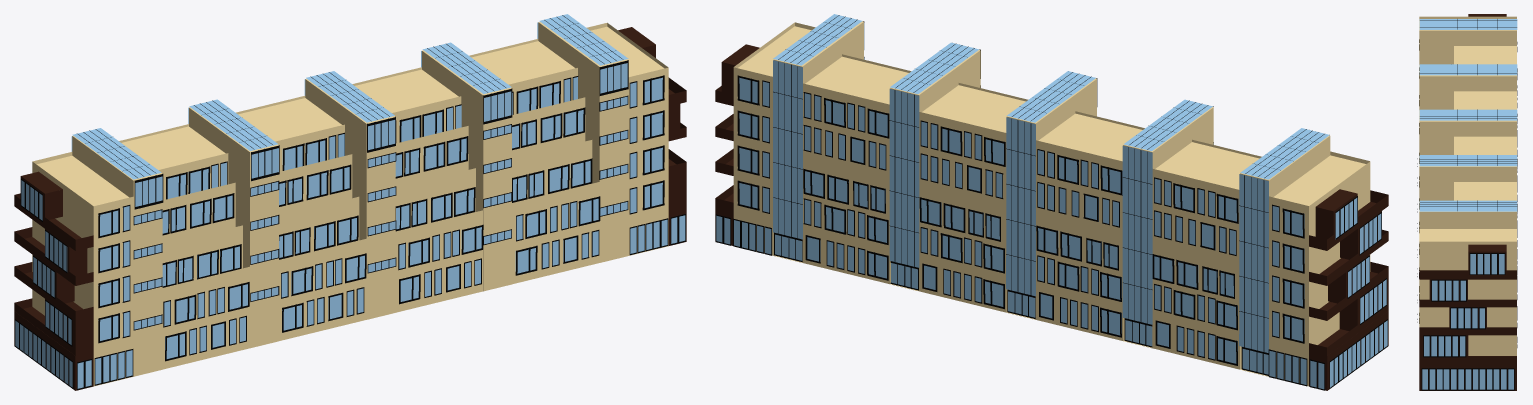
File: second_build.glb
The picture shows the model from 3 angles, left to right: view 1: azimuth 30°, elevation 25°; view 2: azimuth 150°, elevation 25°; view 3: azimuth 270°, elevation 25°; orthographic projection. The views are drawn at different scales.
Parts seen in each view (by area): view 1: Плоскость.001, Плоскость.012, Плоскость.024, Плоскость.017, Плоскость.007, Плоскость.002, Плоскость.023, Плоскость.021, Плоскость.006, Плоскость.011, Плоскость.016, Плоскость.003 (+43 smaller); view 2: Плоскость.003, Плоскость.013, Плоскость.018, Плоскость.008, Плоскость.001, Door 2.004, Door 2.011, Door 2.002, Door 2.003, Door 2.005, Плоскость.023, Плоскость.028 (+35 smaller); view 3: Плоскость.023, Плоскость.012, Плоскость.007, Плоскость.002, Плоскость.017, Плоскость.024, Плоскость.038, Плоскость.003, Плоскость.008, Плоскость.013, Плоскость.018, Door 2.007 (+44 smaller).
Boxes of the visible parts, left/top/right/bottom form: Плоскость.001: left=32, top=152, right=133, bottom=386; Плоскость.012: left=305, top=78, right=395, bottom=319; Плоскость.024: left=538, top=22, right=628, bottom=262; Плоскость.017: left=422, top=50, right=511, bottom=291; Плоскость.007: left=189, top=107, right=278, bottom=348; Плоскость.002: left=72, top=135, right=162, bottom=376; Плоскость.023: left=586, top=22, right=668, bottom=255; Плоскость.021: left=512, top=182, right=599, bottom=284; Плоскость.006: left=162, top=266, right=249, bottom=369; Плоскость.011: left=279, top=238, right=366, bottom=340; Плоскость.016: left=395, top=210, right=482, bottom=312; Плоскость.003: left=119, top=124, right=228, bottom=199; Плоскость.003: left=1152, top=139, right=1261, bottom=369; Плоскость.013: left=919, top=83, right=1028, bottom=312; Плоскость.018: left=802, top=54, right=911, bottom=284; Плоскость.008: left=1035, top=111, right=1144, bottom=341; Плоскость.001: left=1269, top=151, right=1370, bottom=386; Door 2.004: left=1122, top=145, right=1152, bottom=324; Door 2.011: left=889, top=89, right=919, bottom=267; Door 2.002: left=773, top=60, right=802, bottom=239; Door 2.003: left=1006, top=117, right=1035, bottom=296; Door 2.005: left=1239, top=174, right=1268, bottom=352; Плоскость.023: left=733, top=22, right=815, bottom=255; Плоскость.028: left=1309, top=189, right=1388, bottom=250; Плоскость.023: left=1419, top=229, right=1516, bottom=355; Плоскость.012: left=1419, top=110, right=1516, bottom=155; Плоскость.007: left=1419, top=65, right=1516, bottom=109; Плоскость.002: left=1419, top=20, right=1516, bottom=64; Плоскость.017: left=1419, top=156, right=1516, bottom=200; Плоскость.024: left=1419, top=201, right=1516, bottom=228; Плоскость.038: left=1419, top=244, right=1516, bottom=279; Плоскость.003: left=1454, top=46, right=1516, bottom=64; Плоскость.008: left=1454, top=91, right=1516, bottom=109; Плоскость.013: left=1454, top=136, right=1516, bottom=154; Плоскость.018: left=1454, top=182, right=1516, bottom=200; Door 2.007: left=1419, top=64, right=1517, bottom=75.
Bounding box in the file's own units: 82.26 × 25.39 × 14.74.
